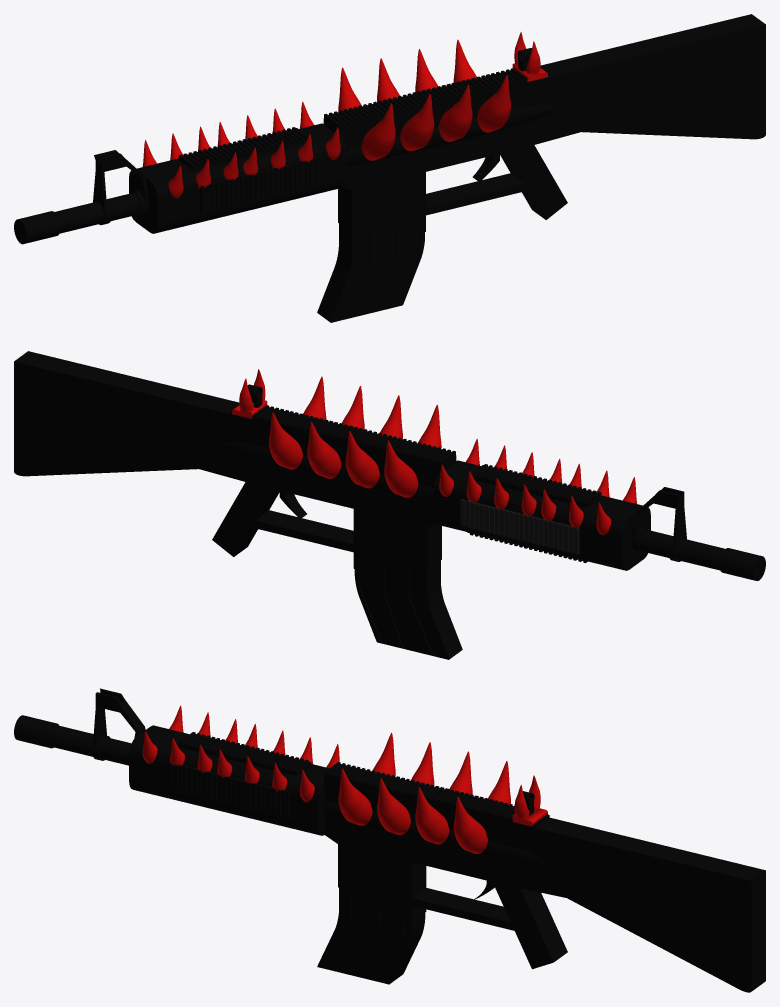
The model's file is M4DEVILFINAL.fbx.
3 views of the same model, one above another, from view 1: azimuth 30°, elevation 25°; view 2: azimuth 150°, elevation 25°; view 3: azimuth 330°, elevation 25° (orthographic).
Visible parts, largest first — view 1: Cube.005, Cube.001, Cube, Cube.012, Cube.006, Cube.014, Cube.008, Cube.009, Cube.011, Cube.002, Torus.001, Cube.003 (+13 smaller); view 2: Cube.005, Cube, Cube.012, Cube.001, Cube.006, Cube.013, Cube.008, Cube.009, Cube.011, Torus.001, Cylinder.001, Cube.002 (+12 smaller); view 3: Cube.005, Cube.001, Cube, Cube.012, Cube.006, Cube.008, Cube.014, Cube.011, Cube.009, Torus.001, Cube.002, Cylinder.001 (+12 smaller).
Part boxes in pixels (x1,y1,x2,y2): Cube.005: (541, 14, 765, 139); Cube.001: (323, 64, 580, 189); Cube: (129, 123, 346, 233); Cube.012: (317, 223, 424, 322); Cube.006: (338, 172, 425, 232); Cube.014: (200, 157, 319, 212); Cube.008: (500, 135, 567, 219); Cube.009: (426, 173, 549, 215); Cube.011: (178, 127, 308, 170); Cube.002: (324, 87, 456, 132); Torus.001: (346, 104, 557, 166); Cube.003: (417, 68, 549, 108); Cube.005: (14, 351, 239, 476); Cube: (433, 460, 650, 570); Cube.012: (354, 560, 462, 659); Cube.001: (199, 401, 456, 526); Cube.006: (353, 486, 441, 569); Cube.013: (460, 499, 579, 554); Cube.008: (212, 471, 279, 556); Cube.009: (230, 510, 353, 552); Cube.011: (471, 464, 601, 507); Torus.001: (222, 441, 433, 503); Cylinder.001: (631, 529, 725, 570); Cube.002: (328, 423, 455, 465); Cube.005: (530, 820, 765, 992); Cube.001: (323, 776, 565, 897); Cube: (129, 725, 328, 835); Cube.012: (317, 888, 425, 984); Cube.006: (338, 844, 426, 921); Cube.008: (492, 873, 567, 969); Cube.014: (169, 763, 289, 817); Cube.011: (178, 732, 311, 775); Cube.009: (412, 887, 525, 931); Torus.001: (324, 801, 543, 864); Cube.002: (324, 762, 453, 808); Cylinder.001: (48, 725, 131, 765).
Size of the model in its own units: 5994 by 1799 by 696.
